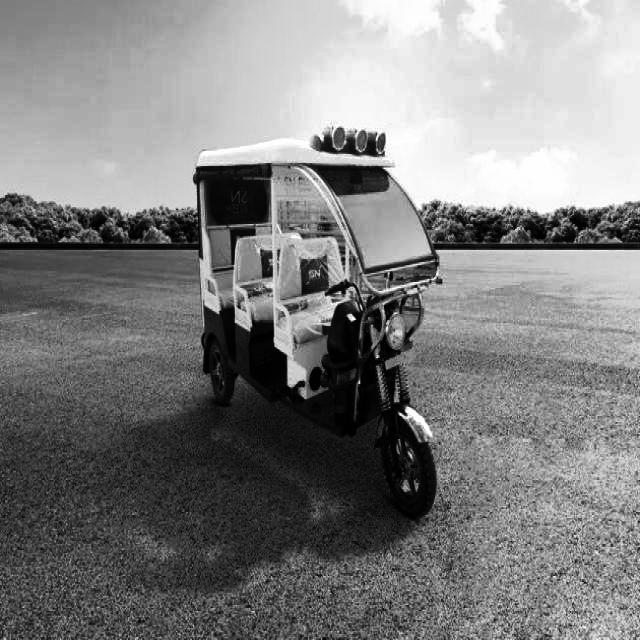Toto: (189, 135, 443, 517)
